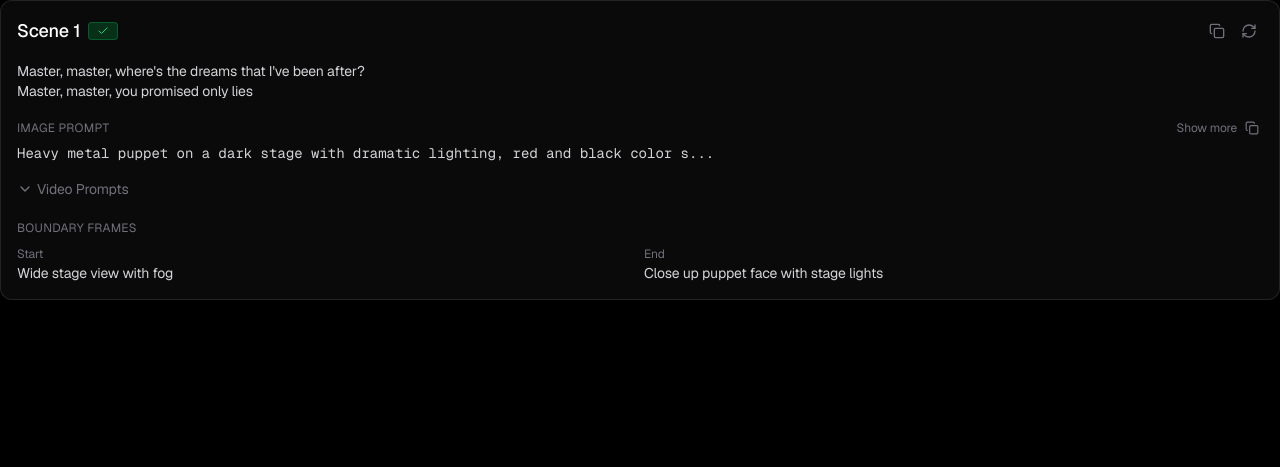
SceneCard › Video Prompts › expands video prompts on click
Click the button "Video Prompts". click: (73, 189)
box: 17,179 -> 128,199
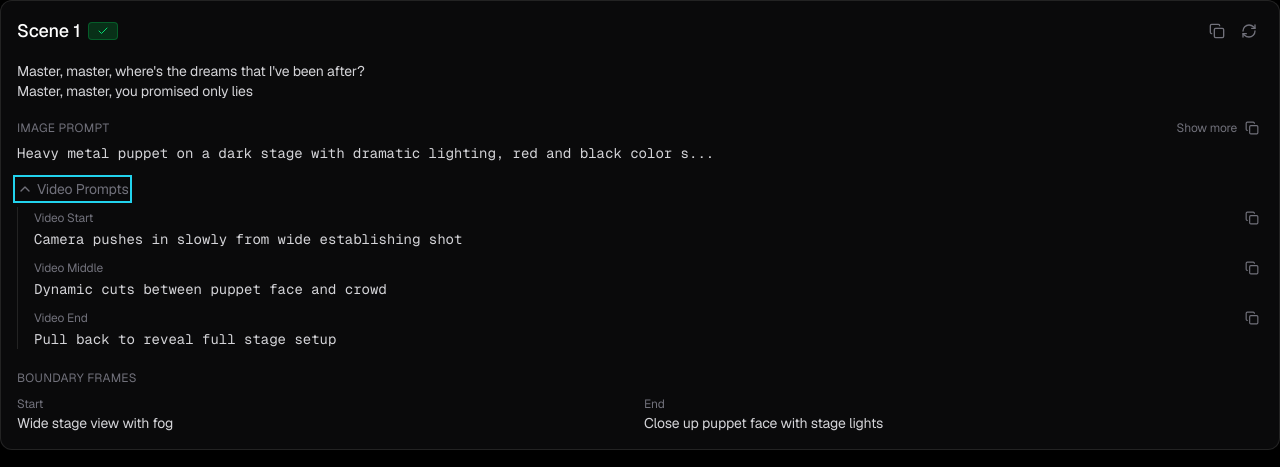
Expected: the text "Video Start" is shown, 34,210 -> 93,226
Expected: the text "Video Middle" is shown, 34,260 -> 103,276
Expected: the text "Video End" is shown, 34,310 -> 88,326
